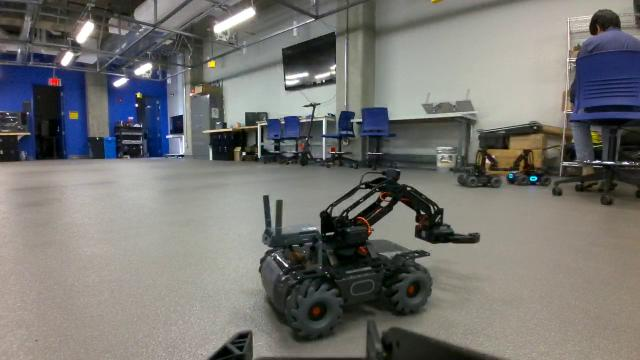robot: (257, 168, 482, 344)
